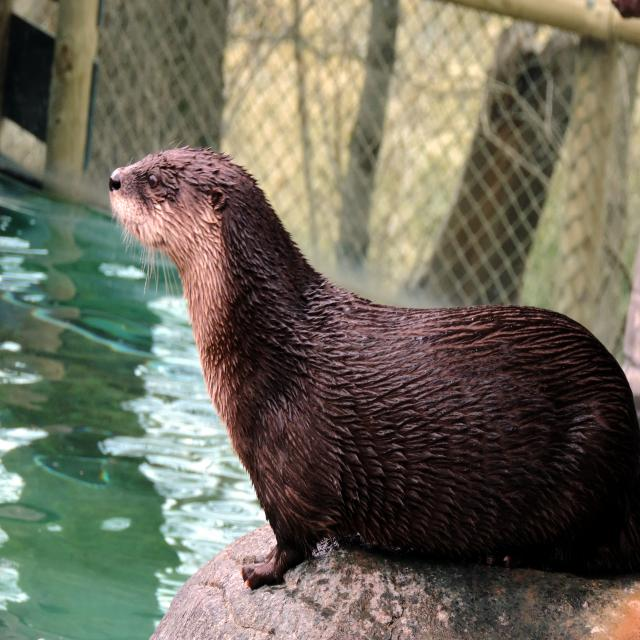otter: (111, 149, 640, 568)
